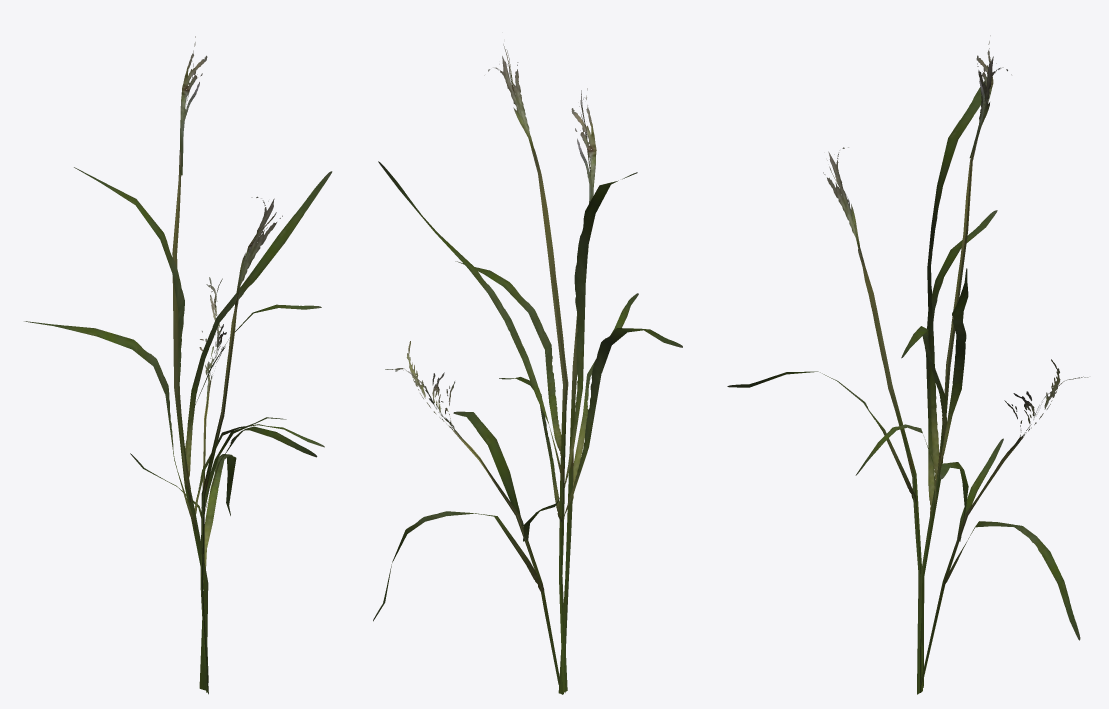
The picture shows the model from 3 angles, left to right: view 1: azimuth 30°, elevation 25°; view 2: azimuth 150°, elevation 25°; view 3: azimuth 270°, elevation 25°; orthographic projection. The views are drawn at different scales.
Parts seen in each view (by area): view 1: grass_medium_01__f_lod0; view 2: grass_medium_01__f_lod0; view 3: grass_medium_01__f_lod0.
Boxes of the visible parts, box(x1,y1,x2,y2) form: grass_medium_01__f_lod0: box(24, 36, 332, 694); grass_medium_01__f_lod0: box(373, 44, 682, 694); grass_medium_01__f_lod0: box(727, 35, 1088, 694).
Bounding box in the file's own units: 0.161 × 0.3225 × 0.1585.
Materials: 1 (1 with a texture image).
